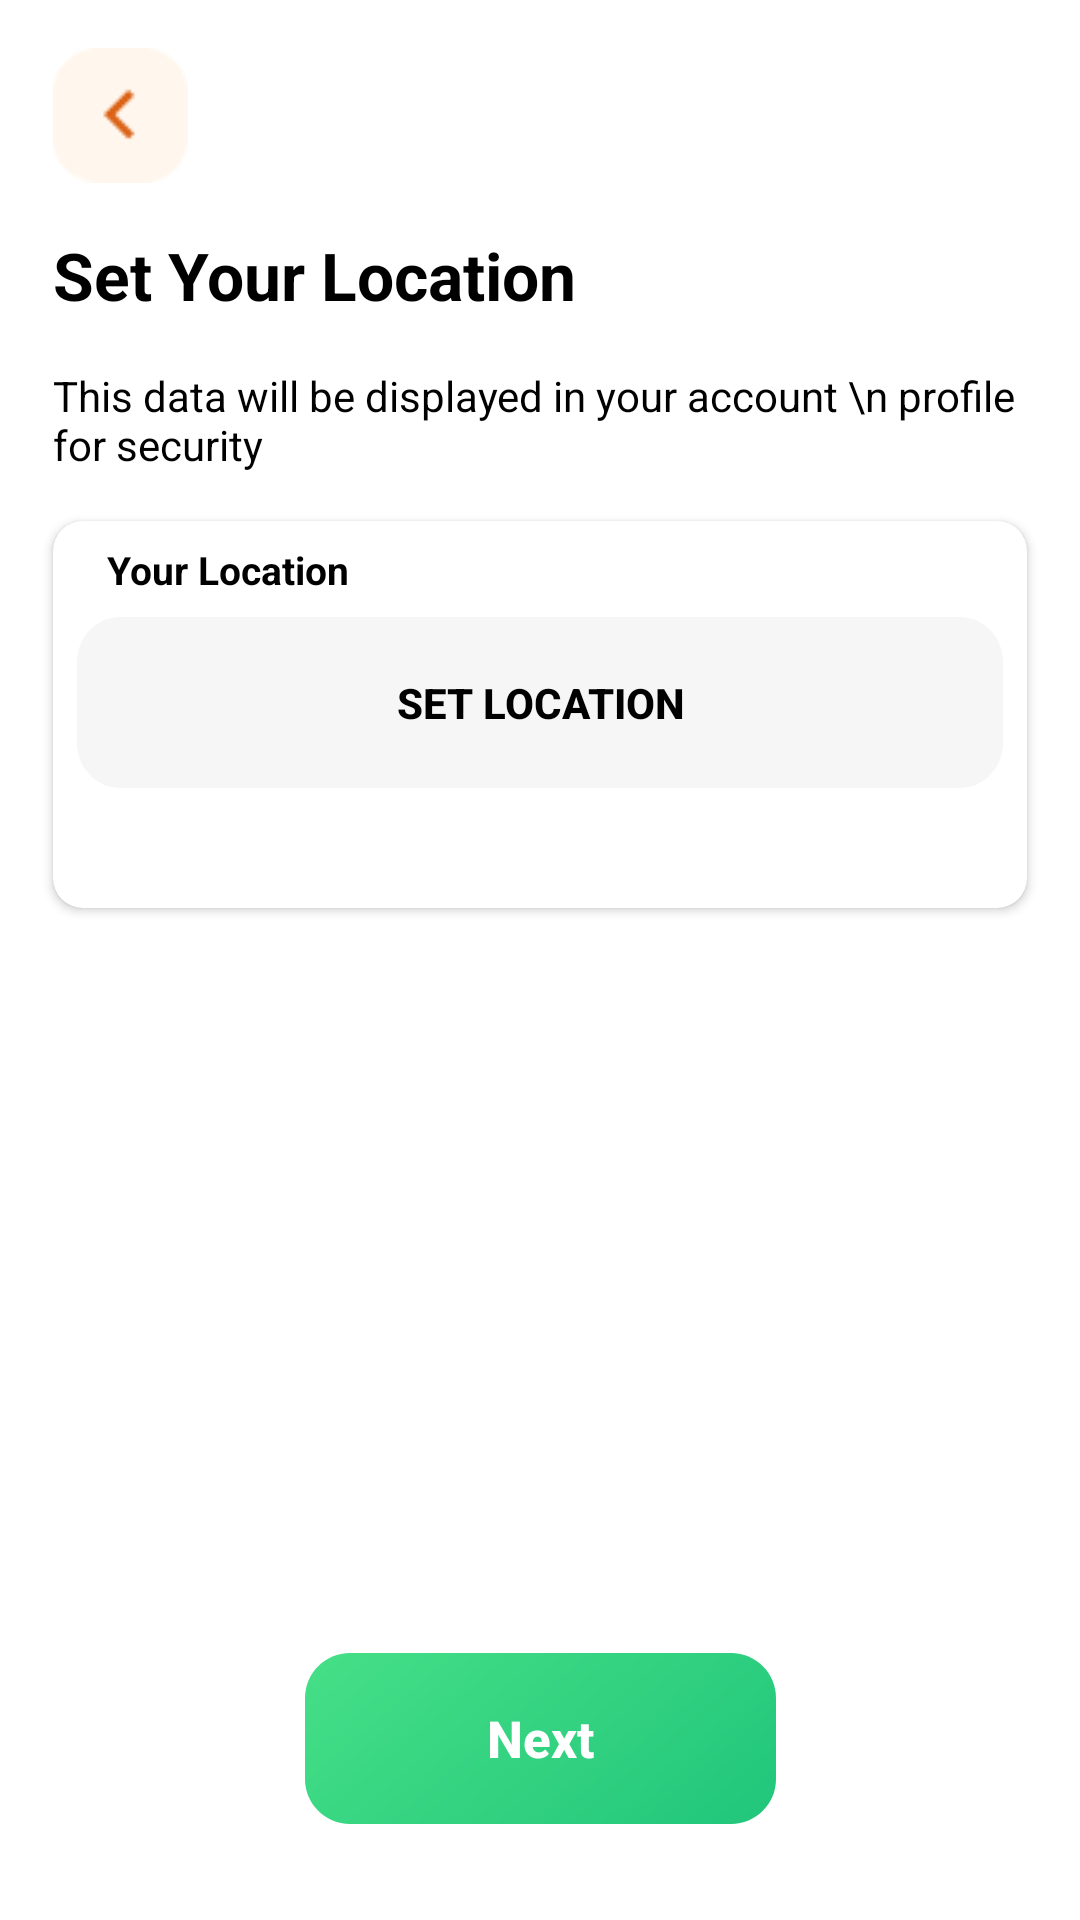

Icon bounding boxes for this 1080 × 1920 phone screenshot, format BBox(x1, y1, x2, y2):
iconback: BBox(103, 89, 135, 141)
